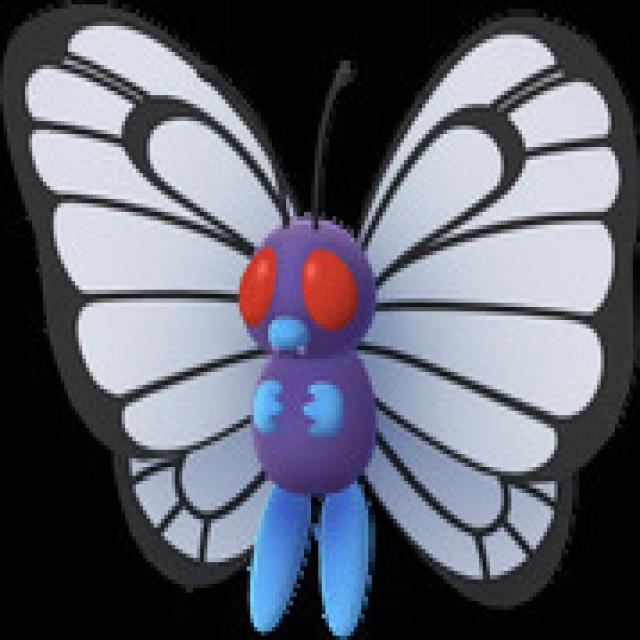Butterfree: (119, 92, 528, 572)
